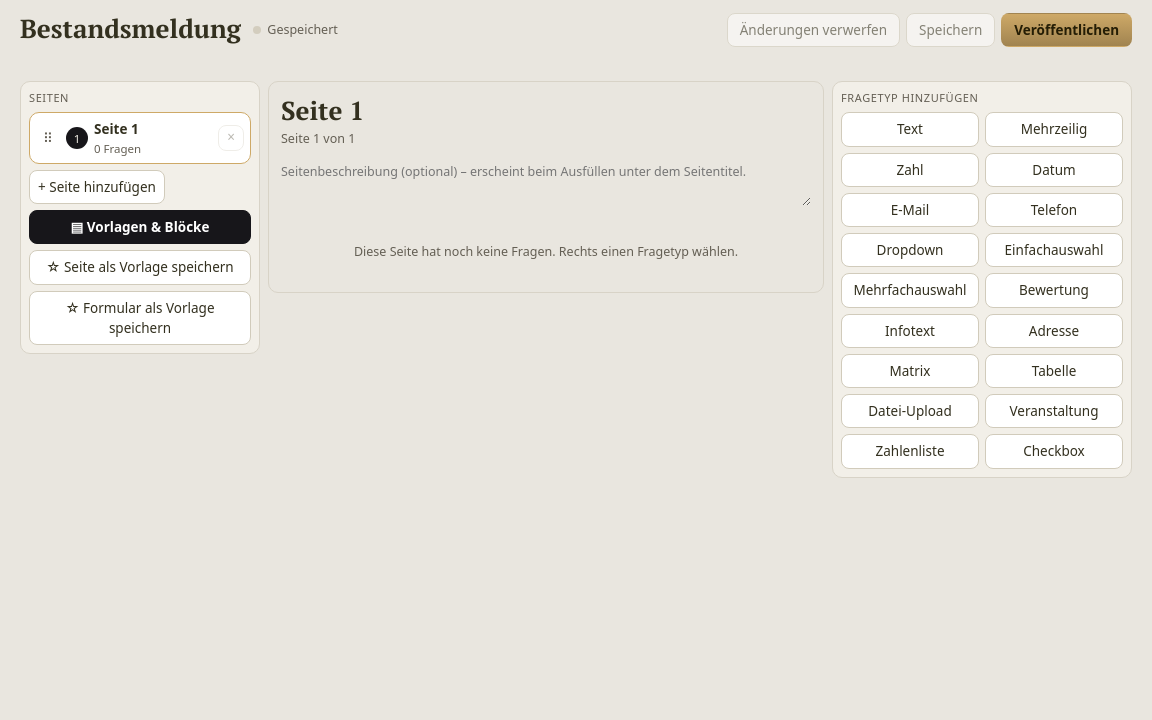
Vorlagen im Builder › Endgültig löschen › bietet ihn ohne das Recht gar nicht an — kein ausgegrauter Knopf
Expected: the field named "Formularname" is shown, [20, 12, 241, 48]
Click the button "▤ Vorlagen & Blöcke" at (140, 227), box [29, 210, 251, 244]
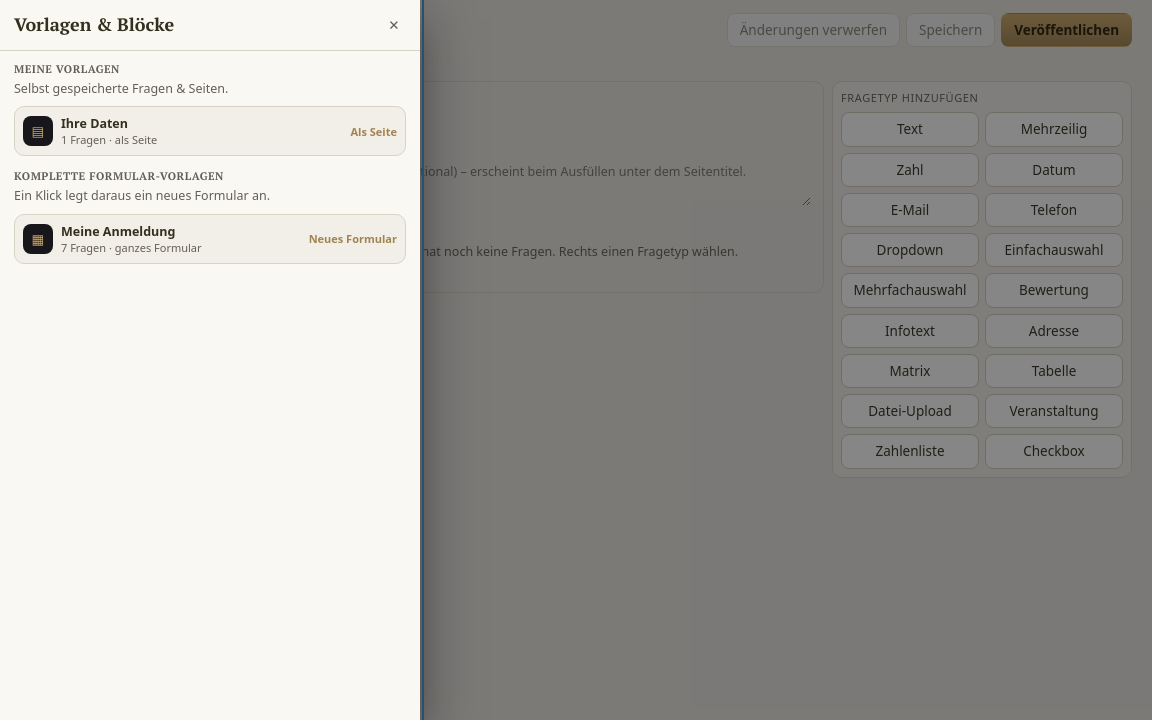
Expected: the text "Ihre Daten" is shown, [61, 115, 128, 132]
Expected: the button "▤ Ihre Daten 1 Fragen · als Seite Als Seite" is shown, [14, 106, 406, 156]
